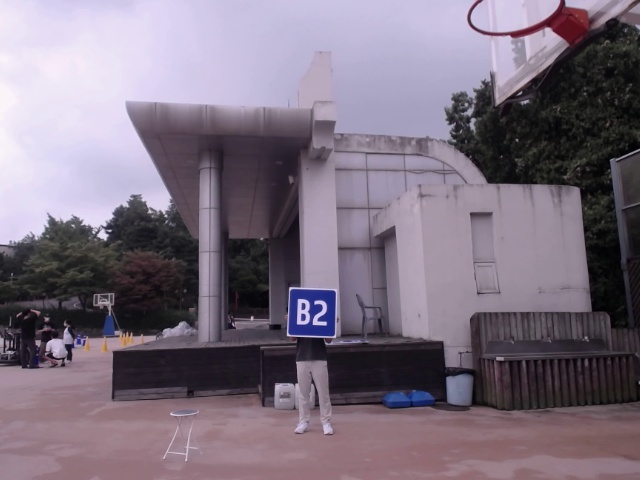delivery_b2: (288, 285, 336, 339)
